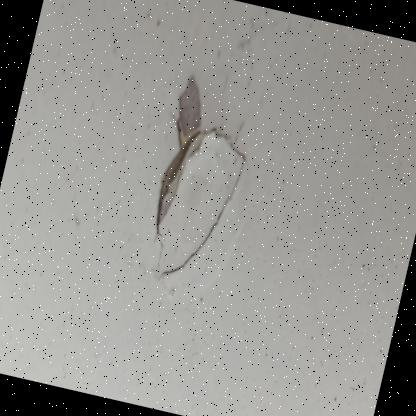Crack: (97, 54, 272, 318)
